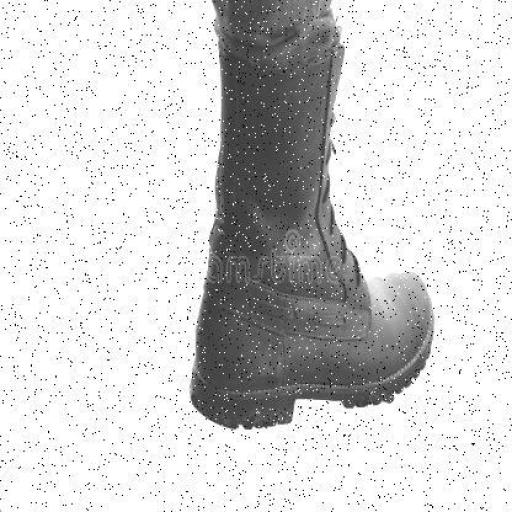safety_shoe: (186, 23, 448, 443)
